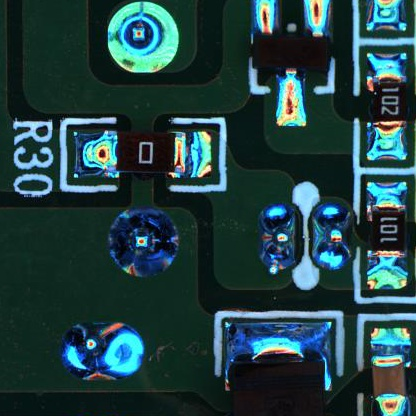spot: (103, 1, 193, 77), (104, 201, 186, 284), (58, 316, 148, 387), (305, 195, 356, 274), (254, 202, 301, 279)
